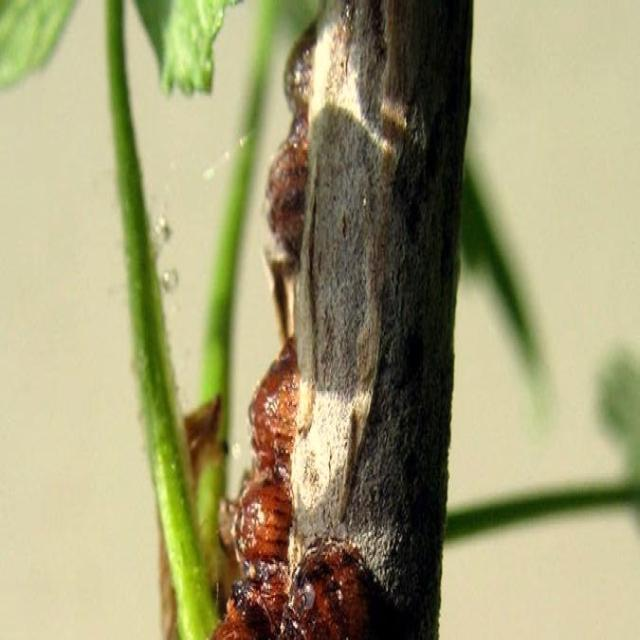BlackScale: (212, 338, 298, 638), (264, 22, 316, 278), (280, 538, 394, 638)
